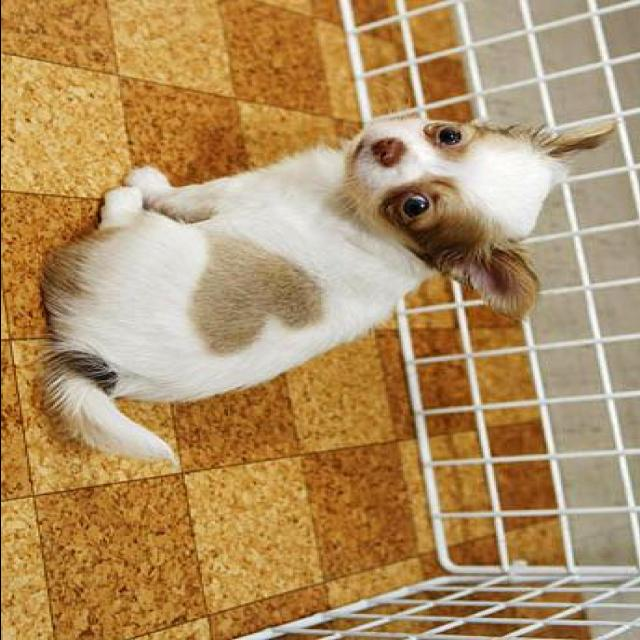chihuahua: (37, 103, 636, 477)
